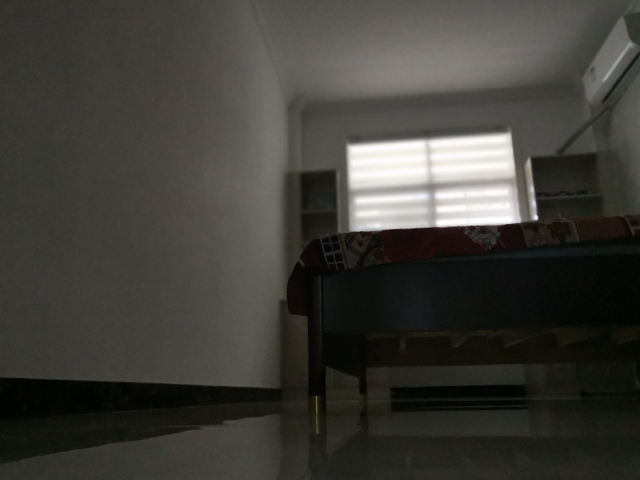bed: (285, 213, 640, 417)
